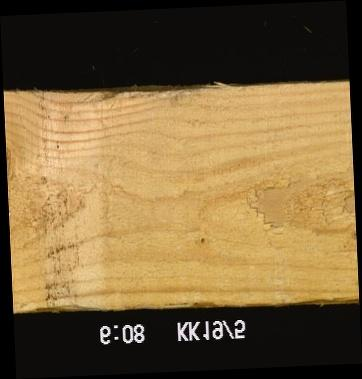small_knot: (346, 226, 355, 246), (197, 234, 207, 246)
wave: (89, 86, 227, 104), (12, 298, 107, 313), (185, 296, 220, 307)
